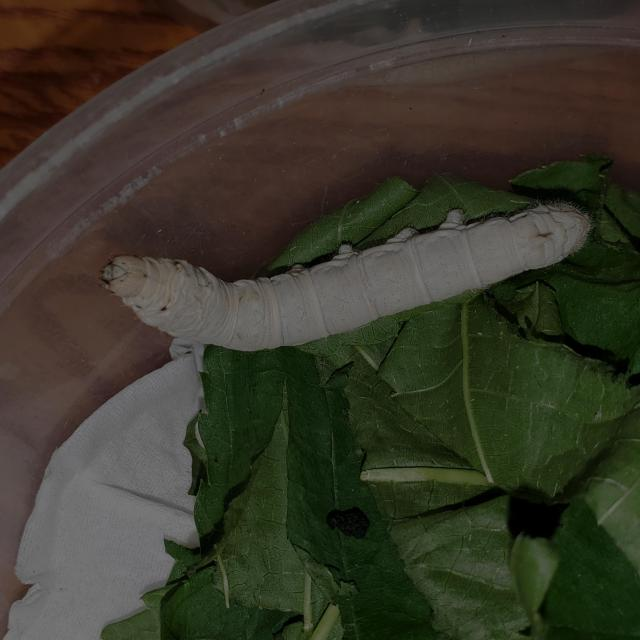Healthy: (87, 195, 603, 356)
